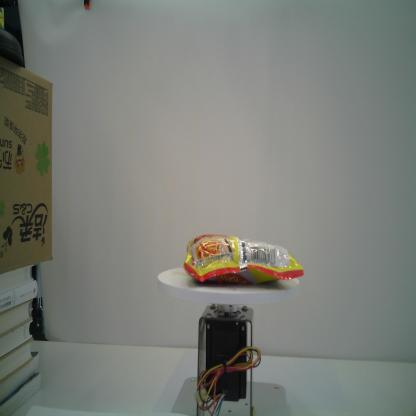Instant Noodles: (184, 232, 304, 283)
